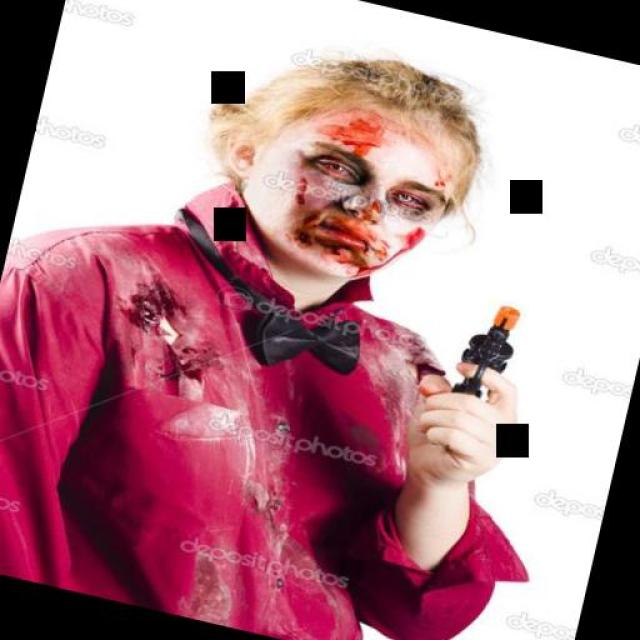gun: (444, 291, 545, 429)
